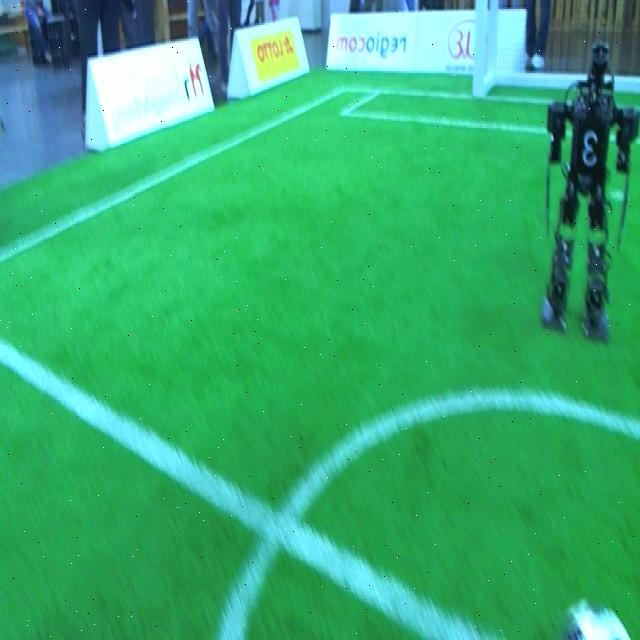ball: (556, 592, 633, 640)
goalpost: (471, 2, 487, 87)
